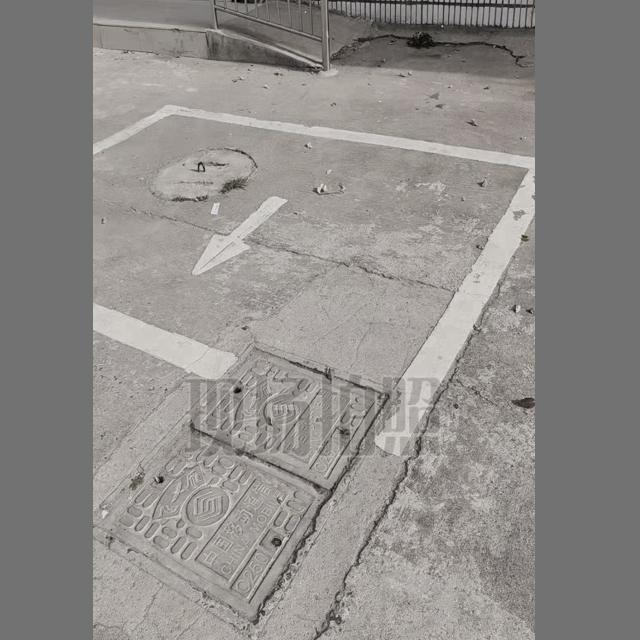good: (93, 337, 393, 636)
